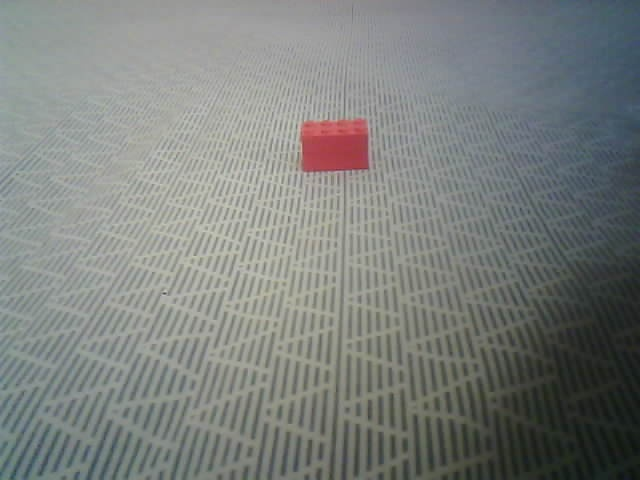lego: (300, 117, 370, 171)
